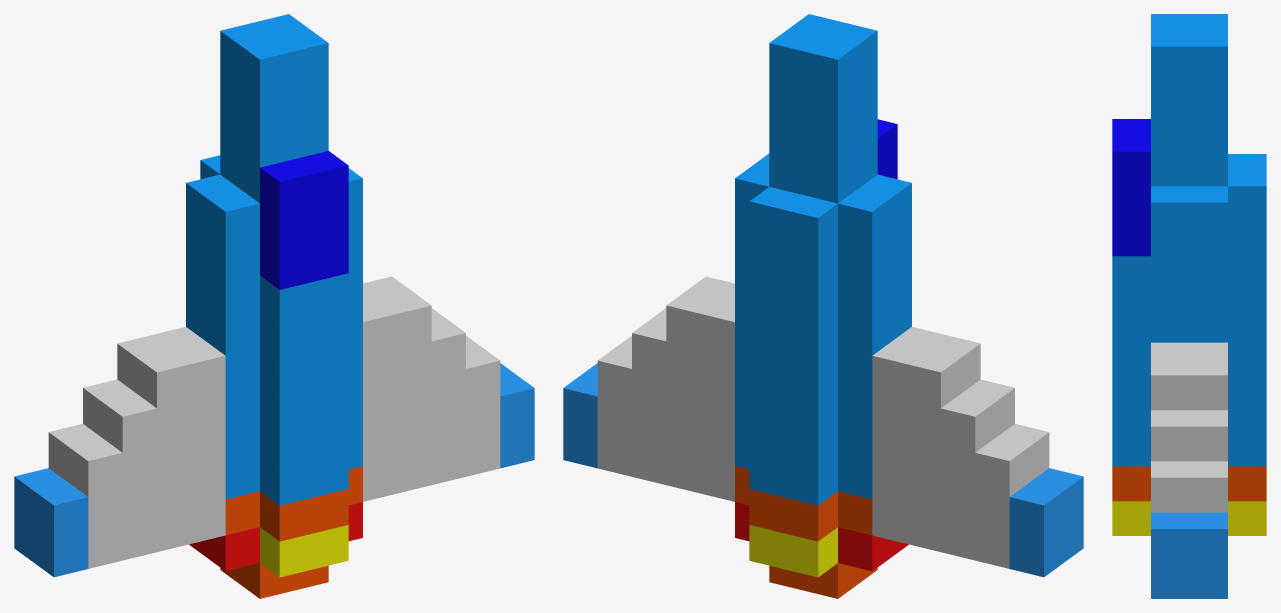
File: myship.obj
3 views of the same model, side by side, from view 1: azimuth 30°, elevation 25°; view 2: azimuth 150°, elevation 25°; view 3: azimuth 270°, elevation 25° (orthographic). The views are drawn at different scales.
Parts seen in each view (by area): view 1: Cube.182_Cube.1032; view 2: Cube.182_Cube.1032; view 3: Cube.182_Cube.1032.
Boxes of the visible parts, left/top/right/bottom form: Cube.182_Cube.1032: left=14, top=14, right=534, bottom=598; Cube.182_Cube.1032: left=563, top=14, right=1083, bottom=598; Cube.182_Cube.1032: left=1112, top=14, right=1266, bottom=598.
Bounding box in the file's own units: 0.875 × 0.9375 × 0.25.
